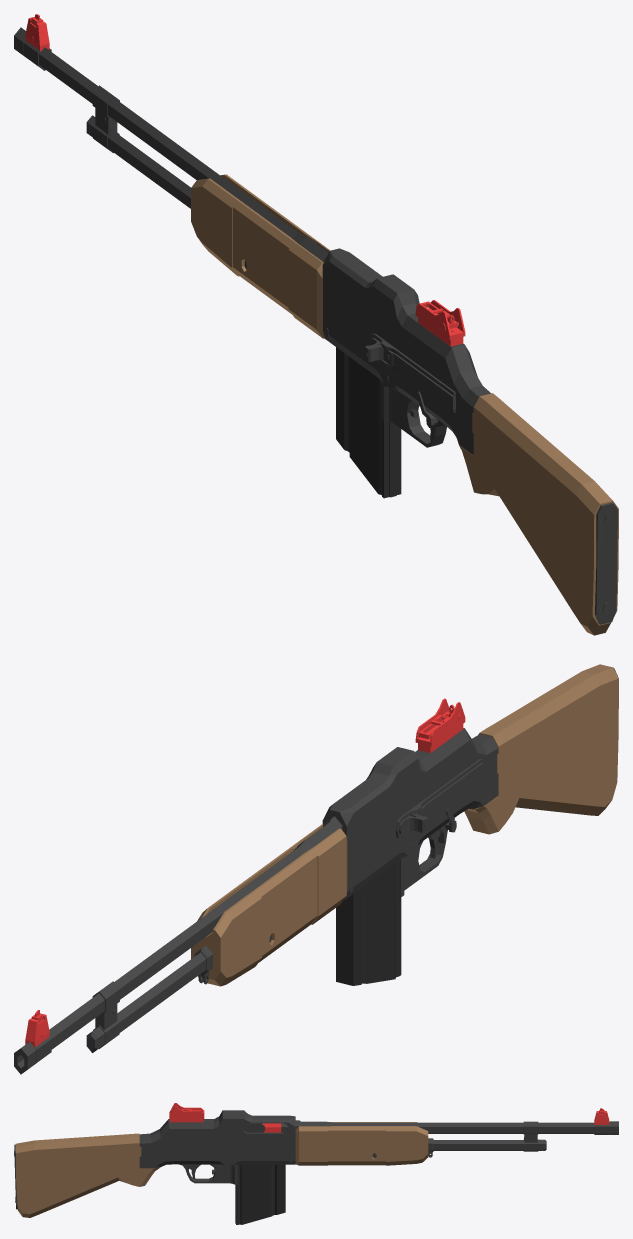
The model's file is fusil_4.glb.
3 renders of one model, top to bottom at view 1: azimuth 30°, elevation 25°; view 2: azimuth 150°, elevation 25°; view 3: azimuth 270°, elevation 25°, orthographic. The views are drawn at different scales.
Parts seen in each view (by area): view 1: p44_accent, p15_paint, p12_accent, p48_mag, p0_paint, p45_paint, p5_paint, p27_paint, p23_paint, p36_del; view 2: p44_accent, p15_paint, p12_accent, p48_mag, p0_paint, p5_paint, p23_paint, p36_del, p27_paint, p22_paint, p1_del; view 3: p44_accent, p15_paint, p12_accent, p48_mag, p0_paint, p5_paint, p27_paint, p36_del, p6_paint.
Boxes of the visible parts, <box> form: p44_accent: <box>458,393,618,635</box>; p15_paint: <box>322,248,490,455</box>; p12_accent: <box>191,174,330,338</box>; p48_mag: <box>336,347,401,498</box>; p0_paint: <box>14,27,328,262</box>; p45_paint: <box>595,502,617,624</box>; p5_paint: <box>86,115,190,208</box>; p27_paint: <box>380,380,446,447</box>; p23_paint: <box>365,338,455,410</box>; p36_del: <box>415,300,465,346</box>; p44_accent: <box>464,664,618,834</box>; p15_paint: <box>322,728,498,899</box>; p12_accent: <box>191,824,347,986</box>; p48_mag: <box>336,860,401,985</box>; p0_paint: <box>14,816,342,1074</box>; p5_paint: <box>86,945,212,1052</box>; p23_paint: <box>399,762,483,834</box>; p36_del: <box>415,698,465,752</box>; p27_paint: <box>399,808,469,897</box>; p22_paint: <box>395,758,481,837</box>; p1_del: <box>25,1013,49,1047</box>; p44_accent: <box>15,1133,160,1217</box>; p15_paint: <box>139,1110,295,1168</box>; p12_accent: <box>295,1122,428,1165</box>; p48_mag: <box>235,1164,285,1224</box>; p0_paint: <box>295,1120,618,1134</box>; p5_paint: <box>428,1138,546,1151</box>; p27_paint: <box>179,1164,237,1184</box>; p36_del: <box>169,1103,204,1122</box>; p6_paint: <box>523,1121,538,1134</box>.
Size of the model in its own units: 0.0539 by 0.2607 by 1.21.
